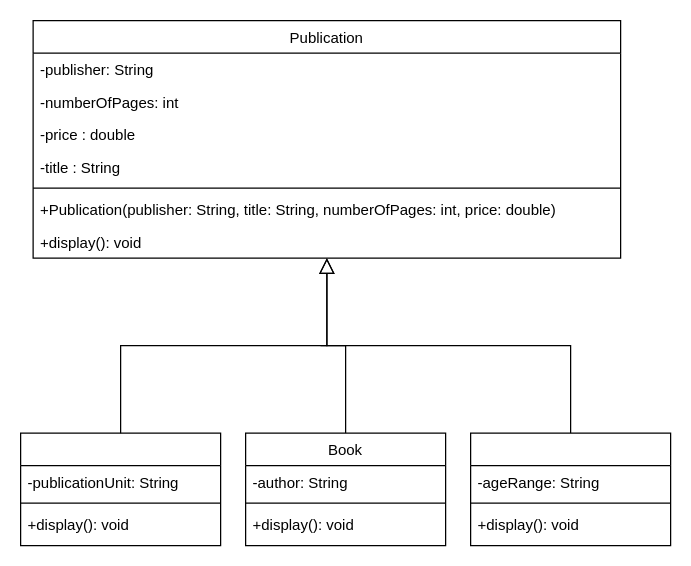
Some shapes in this 691 by 566 pixel diagram are drawn without their labels. Here are the shapes that lost their labels. From the top down, the box of each, then its label:
(19, 432, 221, 546): Megazine
(469, 432, 671, 546): KidsMegazine
